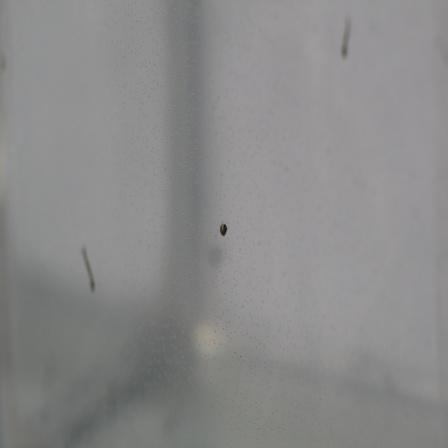Jentik-Nyamuk: (77, 241, 102, 298), (215, 216, 231, 242)
